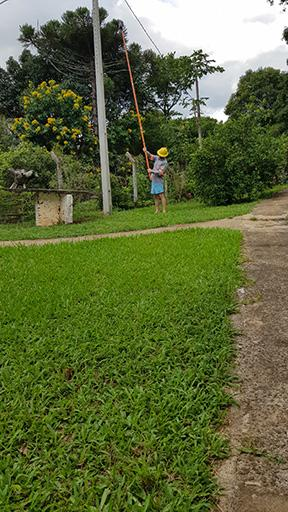Vara_Manobra: (121, 30, 151, 182)
